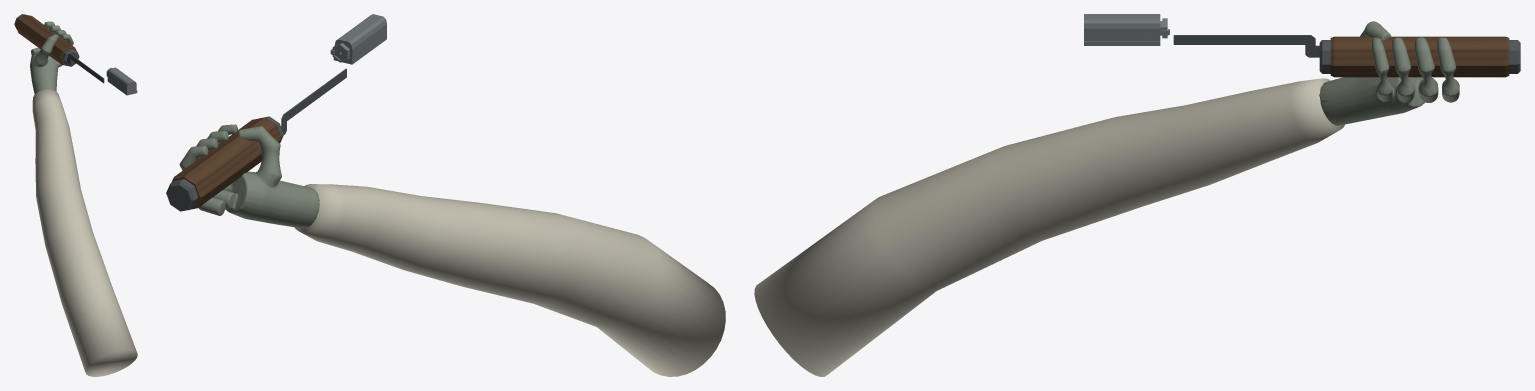
File: shotgun_view_pump.glb
3 renders of one model, left to right at view 1: azimuth 30°, elevation 25°; view 2: azimuth 150°, elevation 25°; view 3: azimuth 270°, elevation 25°, orthographic. The views are drawn at different scales.
Visible parts, largest first — view 1: Left cuff and sleeve, Supplied Stevens pump, Left continuous glove; view 2: Left cuff and sleeve, Supplied Stevens pump, Left continuous glove; view 3: Left cuff and sleeve, Supplied Stevens pump, Left continuous glove.
Part boxes in pixels (x1,y1,x2,y2): Left cuff and sleeve: (32,89,137,376); Supplied Stevens pump: (14,14,137,95); Left continuous glove: (30,21,73,94); Left cuff and sleeve: (294,184,725,376); Supplied Stevens pump: (166,14,386,211); Left continuous glove: (179,124,319,228); Left cuff and sleeve: (754,78,1344,376); Supplied Stevens pump: (1084,14,1520,77); Left continuous glove: (1319,21,1459,125).
Bounding box in the file's own units: 0.2957 × 0.4674 × 0.7315.
6 materials, 1 textured.
